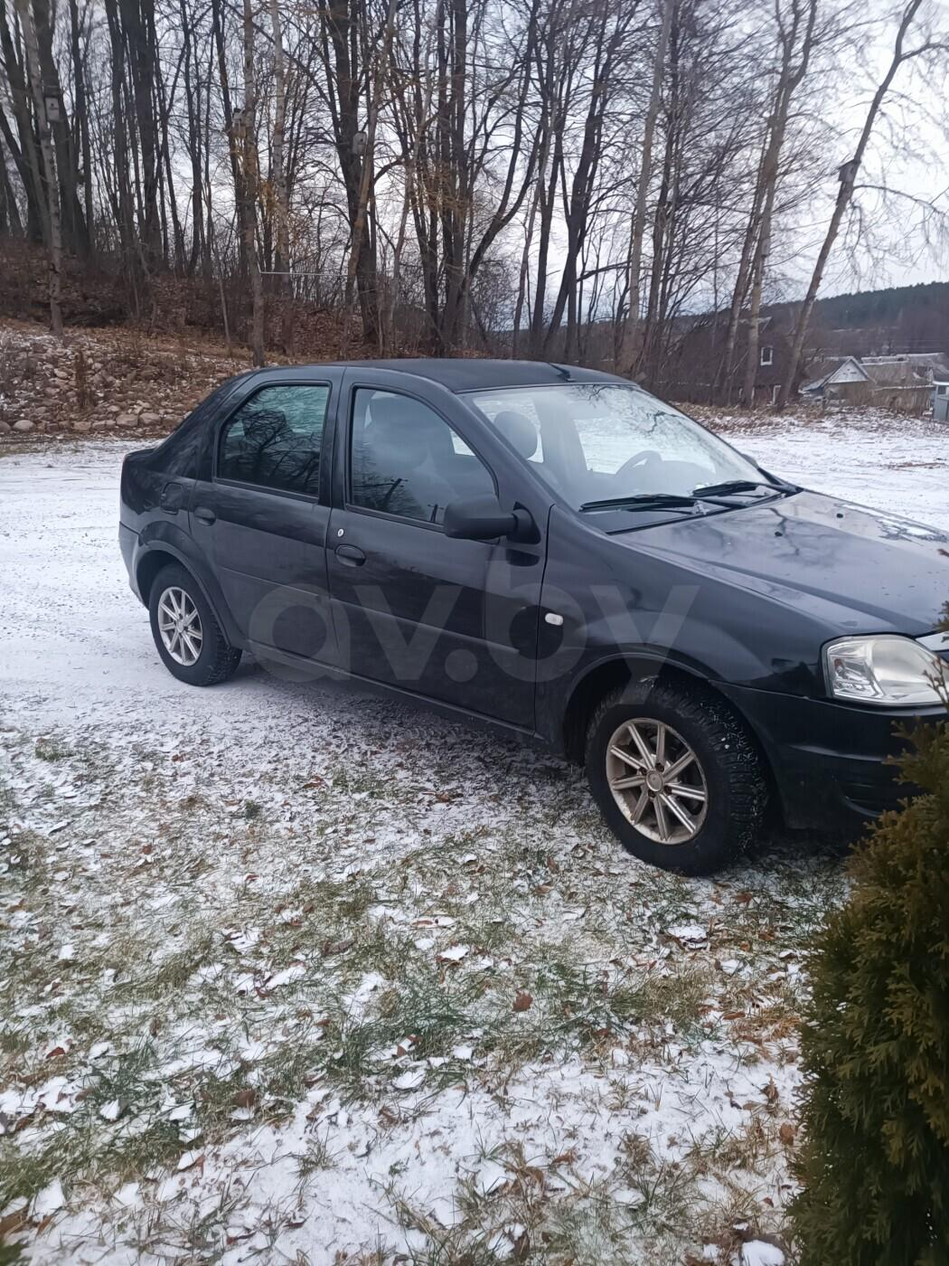Logan_2008-2015: (110, 354, 949, 883)
